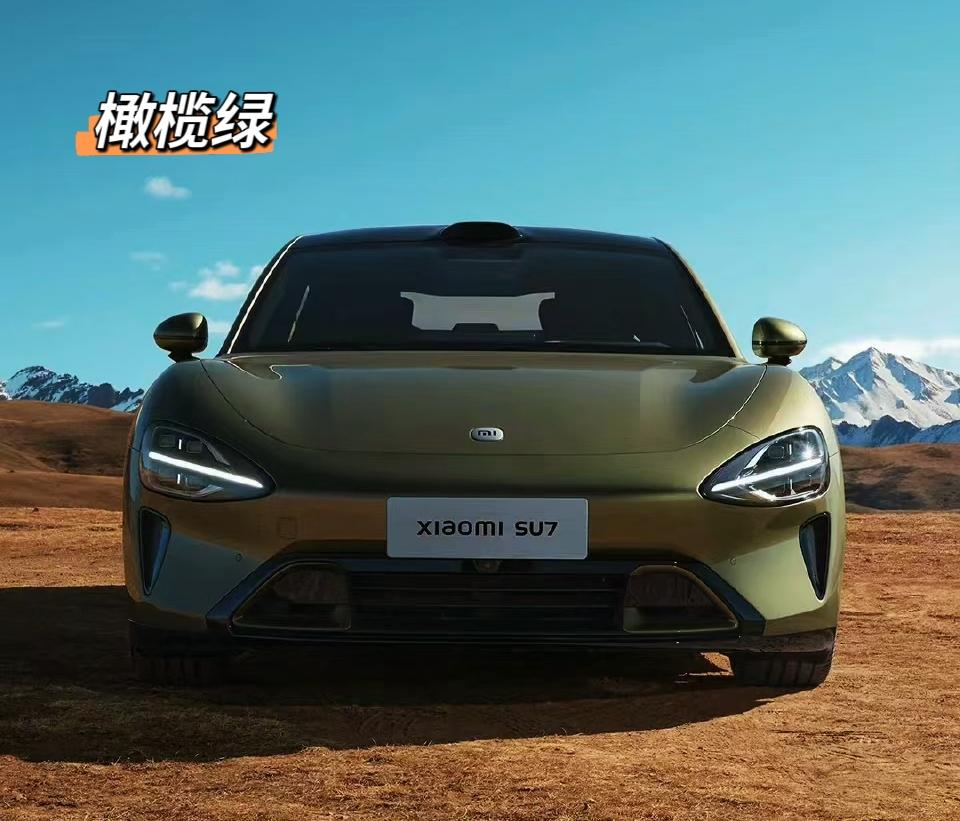su7: (121, 215, 846, 707)
